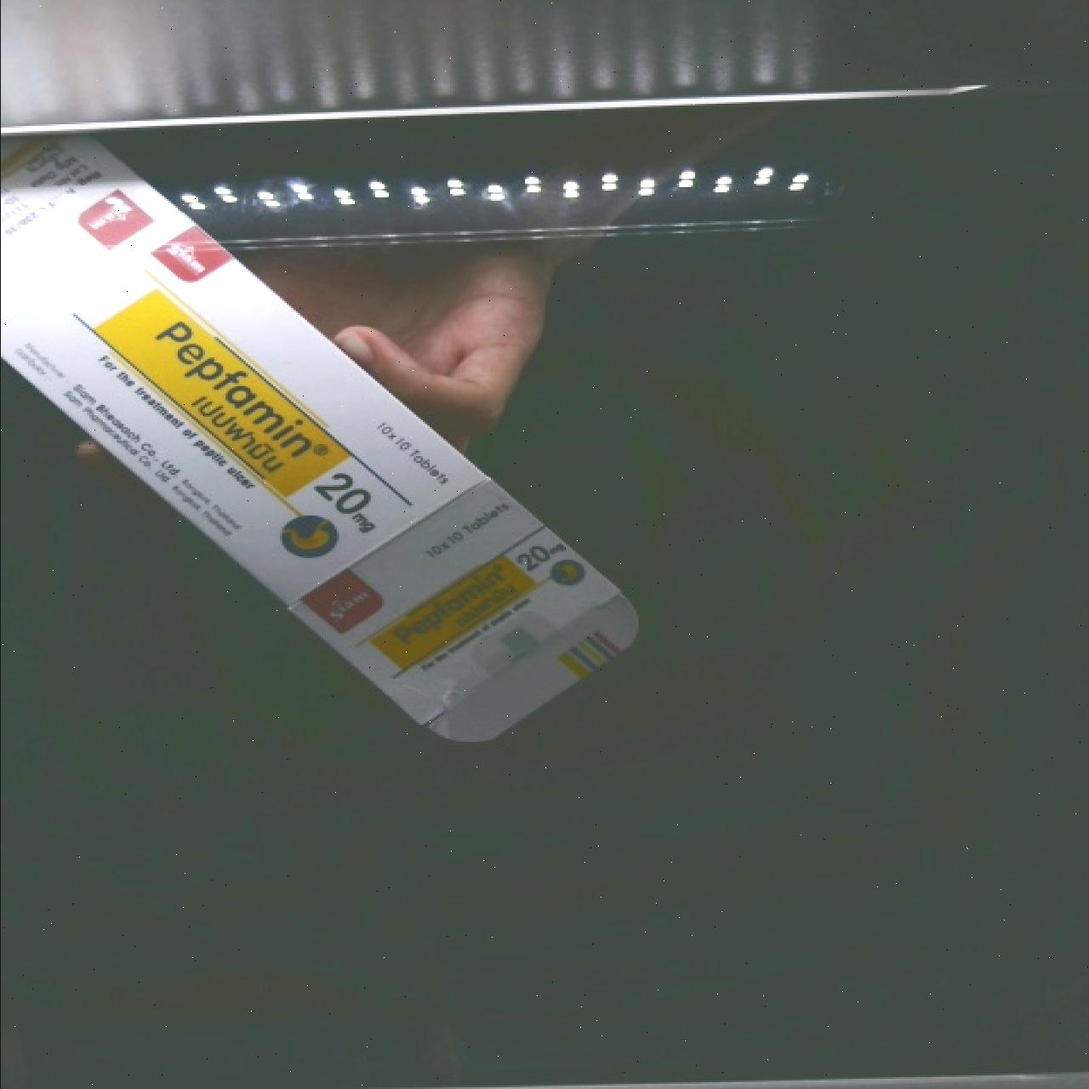medicine_label_obb: (94, 278, 354, 510)
